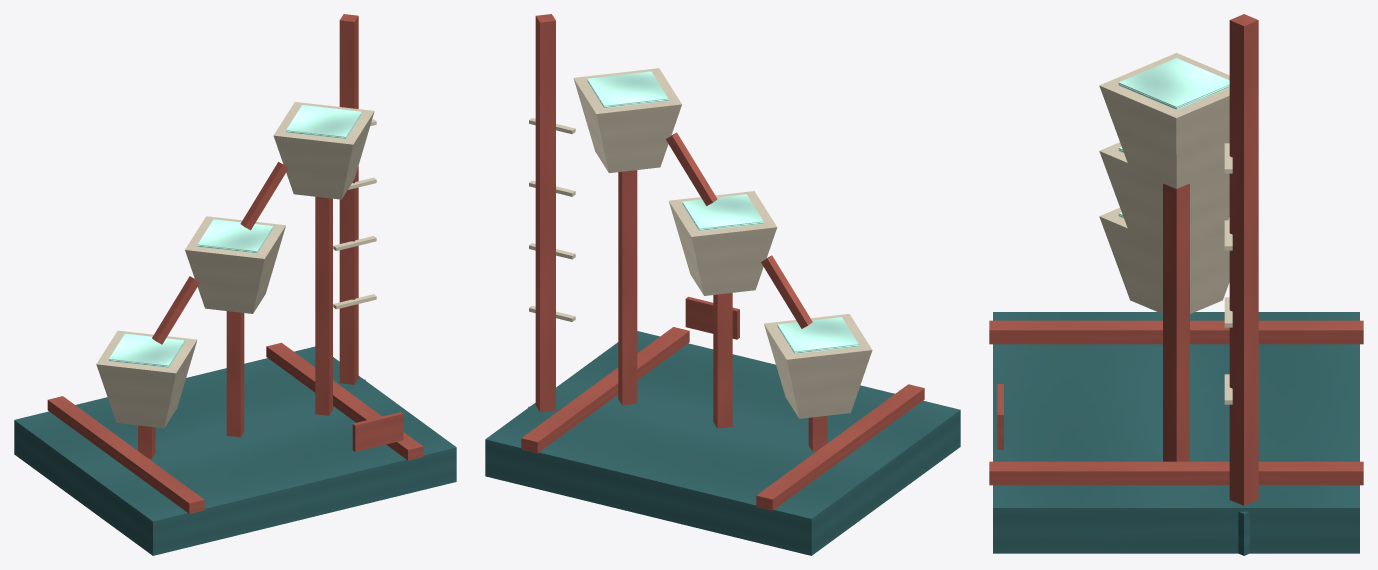
The model's file is atlas100-s039-a01.lod2.glb.
3 renders of one model, left to right at view 1: azimuth 30°, elevation 25°; view 2: azimuth 150°, elevation 25°; view 3: azimuth 270°, elevation 25°, orthographic. The views are drawn at different scales.
Parts seen in each view (by area): view 1: atlas100-s039-a01:part-000, atlas100-s039-a01:part-014, atlas100-s039-a01:part-011, atlas100-s039-a01:part-004, atlas100-s039-a01:part-007, atlas100-s039-a01:part-010, atlas100-s039-a01:part-001, atlas100-s039-a01:part-002, atlas100-s039-a01:part-006, atlas100-s039-a01:part-012, atlas100-s039-a01:part-008, atlas100-s039-a01:part-005 (+4 smaller); view 2: atlas100-s039-a01:part-000, atlas100-s039-a01:part-014, atlas100-s039-a01:part-011, atlas100-s039-a01:part-004, atlas100-s039-a01:part-007, atlas100-s039-a01:part-010, atlas100-s039-a01:part-001, atlas100-s039-a01:part-002, atlas100-s039-a01:part-006, atlas100-s039-a01:part-012, atlas100-s039-a01:part-008, atlas100-s039-a01:part-005 (+4 smaller); view 3: atlas100-s039-a01:part-000, atlas100-s039-a01:part-014, atlas100-s039-a01:part-011, atlas100-s039-a01:part-002, atlas100-s039-a01:part-001, atlas100-s039-a01:part-010, atlas100-s039-a01:part-007, atlas100-s039-a01:part-004, atlas100-s039-a01:part-012, atlas100-s039-a01:part-015, atlas100-s039-a01:part-026.
Boxes of the visible parts, x1=… form: atlas100-s039-a01:part-000: x1=14, y1=346, x2=456, y2=555; atlas100-s039-a01:part-014: x1=339, y1=14, x2=358, y2=384; atlas100-s039-a01:part-011: x1=273, y1=102, x2=374, y2=199; atlas100-s039-a01:part-004: x1=96, y1=330, x2=197, y2=428; atlas100-s039-a01:part-007: x1=185, y1=216, x2=285, y2=313; atlas100-s039-a01:part-010: x1=315, y1=196, x2=332, y2=415; atlas100-s039-a01:part-001: x1=47, y1=396, x2=204, y2=513; atlas100-s039-a01:part-002: x1=266, y1=342, x2=423, y2=460; atlas100-s039-a01:part-006: x1=226, y1=311, x2=244, y2=437; atlas100-s039-a01:part-012: x1=286, y1=105, x2=361, y2=139; atlas100-s039-a01:part-008: x1=197, y1=219, x2=273, y2=253; atlas100-s039-a01:part-005: x1=109, y1=333, x2=184, y2=367; atlas100-s039-a01:part-000: x1=485, y1=331, x2=960, y2=555; atlas100-s039-a01:part-014: x1=535, y1=14, x2=555, y2=412; atlas100-s039-a01:part-011: x1=573, y1=68, x2=681, y2=173; atlas100-s039-a01:part-004: x1=764, y1=314, x2=872, y2=418; atlas100-s039-a01:part-007: x1=669, y1=191, x2=777, y2=295; atlas100-s039-a01:part-010: x1=618, y1=170, x2=637, y2=405; atlas100-s039-a01:part-001: x1=756, y1=384, x2=924, y2=510; atlas100-s039-a01:part-002: x1=521, y1=327, x2=689, y2=453; atlas100-s039-a01:part-006: x1=713, y1=293, x2=732, y2=428; atlas100-s039-a01:part-012: x1=587, y1=71, x2=668, y2=108; atlas100-s039-a01:part-008: x1=682, y1=194, x2=763, y2=231; atlas100-s039-a01:part-005: x1=777, y1=317, x2=858, y2=353; atlas100-s039-a01:part-000: x1=993, y1=312, x2=1359, y2=553; atlas100-s039-a01:part-014: x1=1229, y1=14, x2=1258, y2=505; atlas100-s039-a01:part-011: x1=1099, y1=53, x2=1229, y2=188; atlas100-s039-a01:part-002: x1=989, y1=461, x2=1363, y2=485; atlas100-s039-a01:part-001: x1=989, y1=320, x2=1363, y2=344; atlas100-s039-a01:part-010: x1=1163, y1=183, x2=1189, y2=461; atlas100-s039-a01:part-007: x1=1099, y1=142, x2=1229, y2=248; atlas100-s039-a01:part-004: x1=1099, y1=207, x2=1229, y2=313; atlas100-s039-a01:part-012: x1=1118, y1=58, x2=1229, y2=109; atlas100-s039-a01:part-015: x1=1238, y1=511, x2=1249, y2=555; atlas100-s039-a01:part-026: x1=997, y1=384, x2=1003, y2=449.
Size of the model in its own units: 2.46 by 3 by 1.94.
4 materials, 4 textured.
